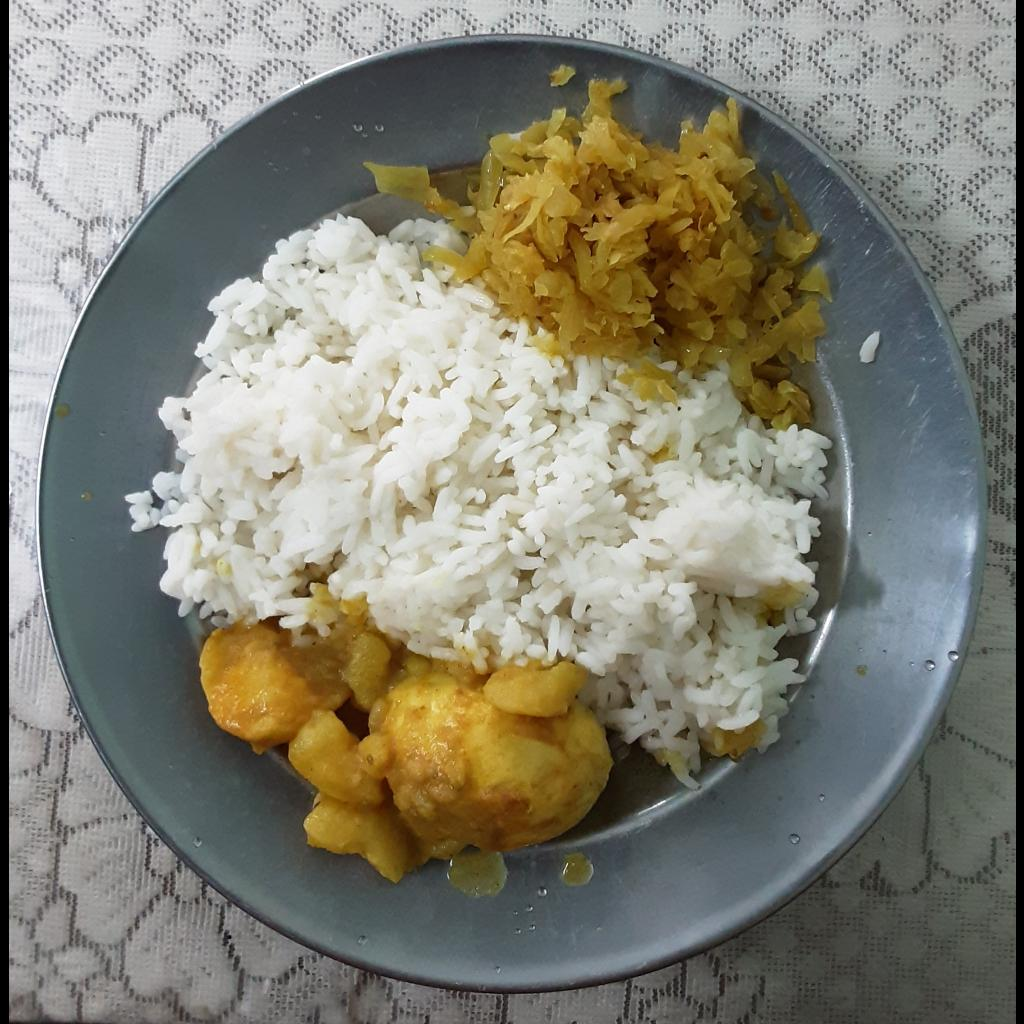chichinga-vaji: (360, 78, 834, 431)
egg-boiled: (371, 649, 616, 850)
potato: (197, 582, 464, 887), (481, 658, 592, 710)
rice: (128, 213, 830, 794), (853, 329, 877, 363)
